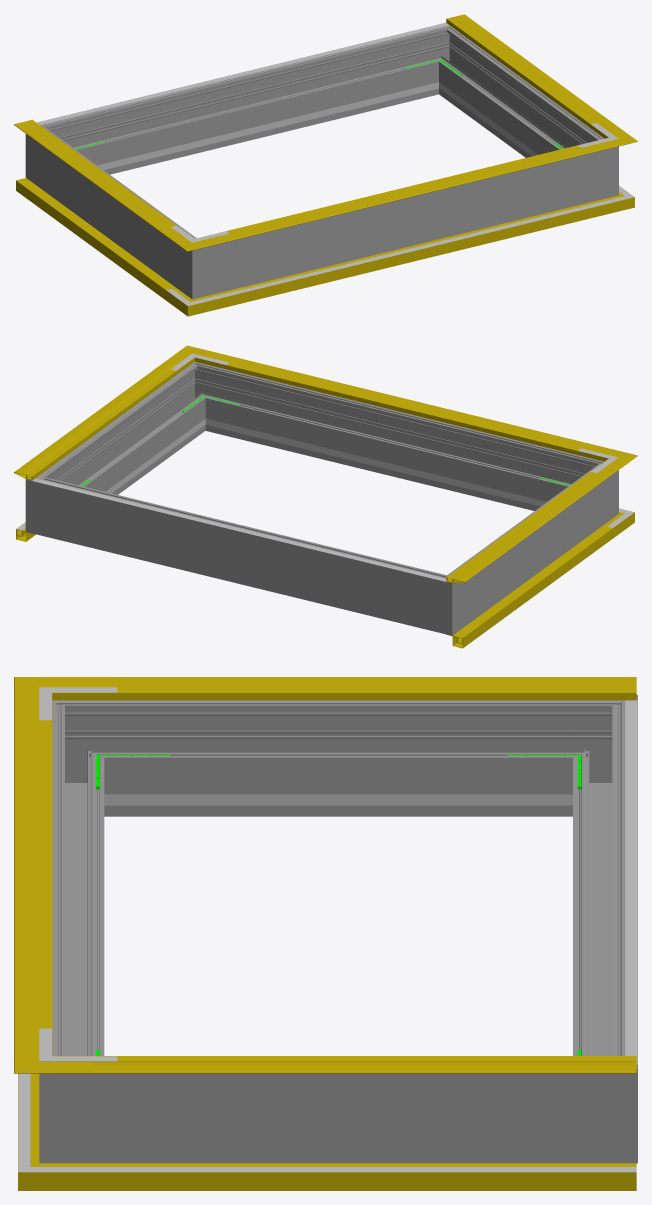
3 views of the same model, one above another, from view 1: azimuth 30°, elevation 25°; view 2: azimuth 150°, elevation 25°; view 3: azimuth 270°, elevation 25° (orthographic). The views are drawn at different scales.
Parts seen in each view (by area): view 1: 3DGeom-276, 3DGeom-298, 3DGeom-297, 3DGeom-268, 3DGeom-11, 3DGeom-141, 3DGeom-270, 3DGeom-145, 3DGeom-6, 3DGeom-147, 3DGeom-244, 3DGeom-290 (+13 smaller); view 2: 3DGeom-298, 3DGeom-276, 3DGeom-297, 3DGeom-268, 3DGeom-141, 3DGeom-278, 3DGeom-145, 3DGeom-6, 3DGeom-284, 3DGeom-147, 3DGeom-239, 3DGeom-290 (+9 smaller); view 3: 3DGeom-268, 3DGeom-297, 3DGeom-276, 3DGeom-298, 3DGeom-16, 3DGeom-147, 3DGeom-141, 3DGeom-145, 3DGeom-290, 3DGeom-284, 3DGeom-278, 3DGeom-270 (+16 smaller).
Boxes of the visible parts, x1,y1,x2,y2 form: 3DGeom-276: (67,33,432,174); 3DGeom-298: (230,155,581,290); 3DGeom-297: (442,38,590,157); 3DGeom-268: (47,138,182,283); 3DGeom-11: (220,202,597,307); 3DGeom-141: (218,145,600,242); 3DGeom-270: (170,228,229,299); 3DGeom-145: (446,14,615,133); 3DGeom-6: (16,178,175,300); 3DGeom-147: (14,121,180,235); 3DGeom-244: (111,91,402,168); 3DGeom-290: (581,128,618,204); 3DGeom-298: (211,369,577,510); 3DGeom-276: (63,483,421,626); 3DGeom-297: (53,375,201,494); 3DGeom-268: (462,474,596,619); 3DGeom-141: (214,354,599,457); 3DGeom-278: (414,564,473,635); 3DGeom-145: (14,361,183,480); 3DGeom-6: (447,525,613,648); 3DGeom-284: (25,465,69,540); 3DGeom-147: (446,468,616,583); 3DGeom-239: (241,427,533,504); 3DGeom-290: (177,362,226,432); 3DGeom-268: (117,700,559,816); 3DGeom-297: (117,1073,559,1163); 3DGeom-276: (573,728,637,1055); 3DGeom-298: (52,728,104,1055); 3DGeom-16: (96,1163,636,1190); 3DGeom-147: (92,677,636,700); 3DGeom-141: (14,709,52,1039); 3DGeom-145: (92,1056,636,1073); 3DGeom-290: (39,1036,117,1163); 3DGeom-284: (560,1036,637,1163); 3DGeom-278: (560,695,637,816); 3DGeom-270: (52,700,117,816).
Size of the model in its own units: 1.83 by 0.2596 by 1.22.
